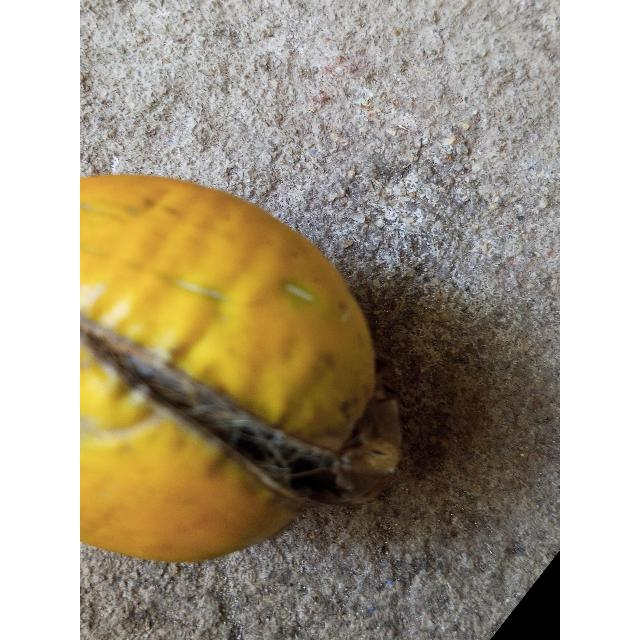damaged: (80, 175, 401, 561)
